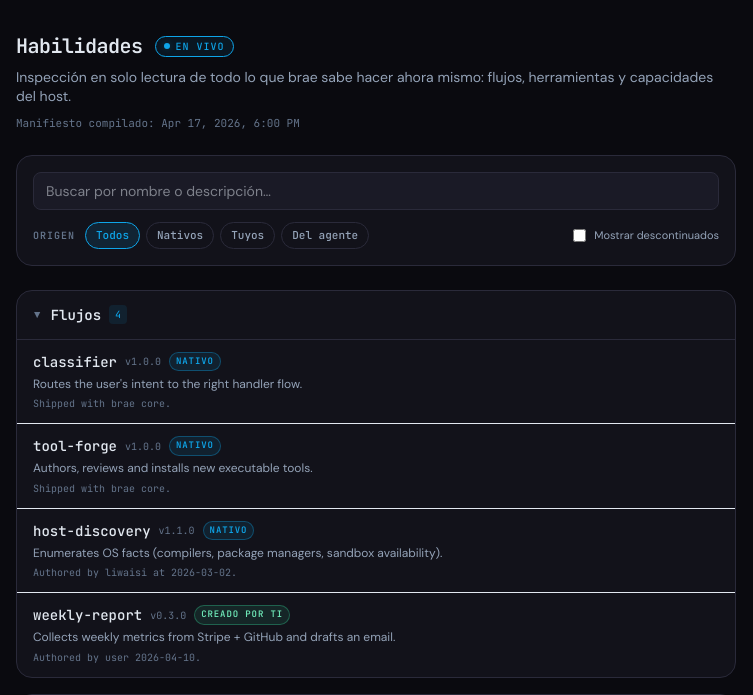
it: SkillsPanel › shows the "no matches" status when every filter excludes everything
In the field with test id "skills-search": (376, 191) [33,172,719,210], type "zzzzzzz-nothing-matches"
(page scrolled)
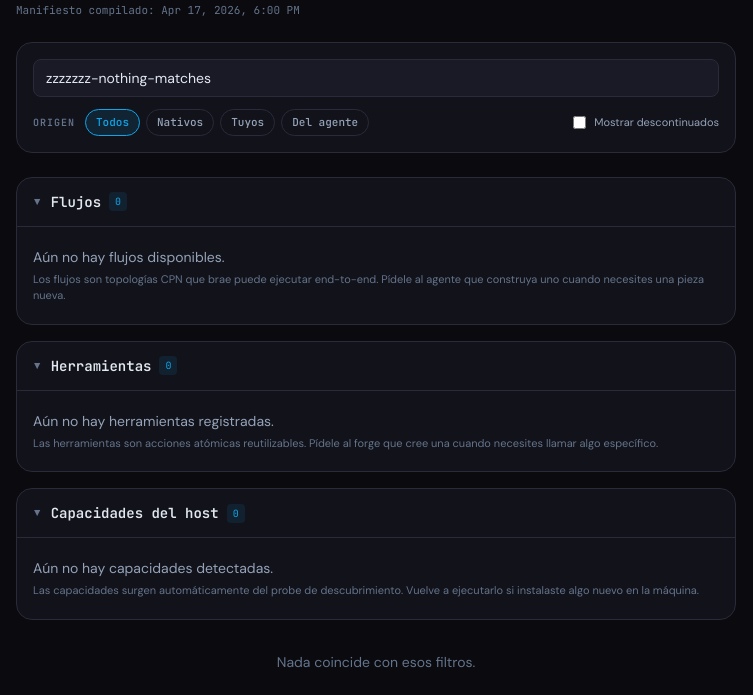
Expected: the message "Nada coincide con esos filtros." is shown, [277,652,475,670]
